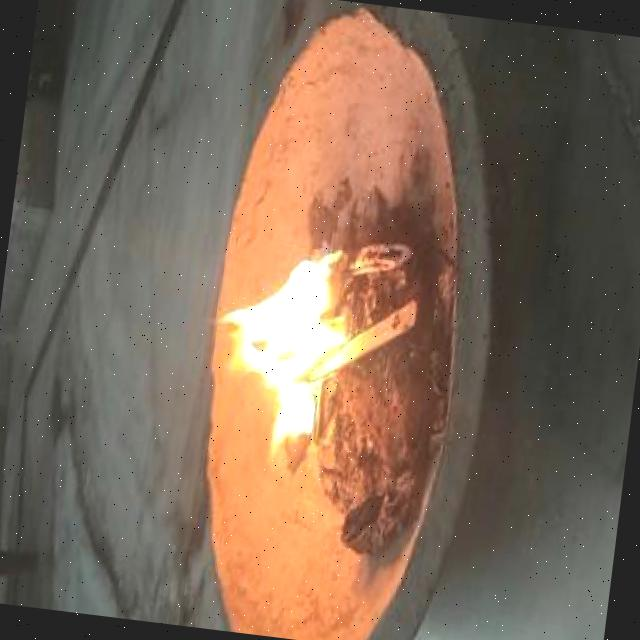fire: (206, 219, 378, 461)
